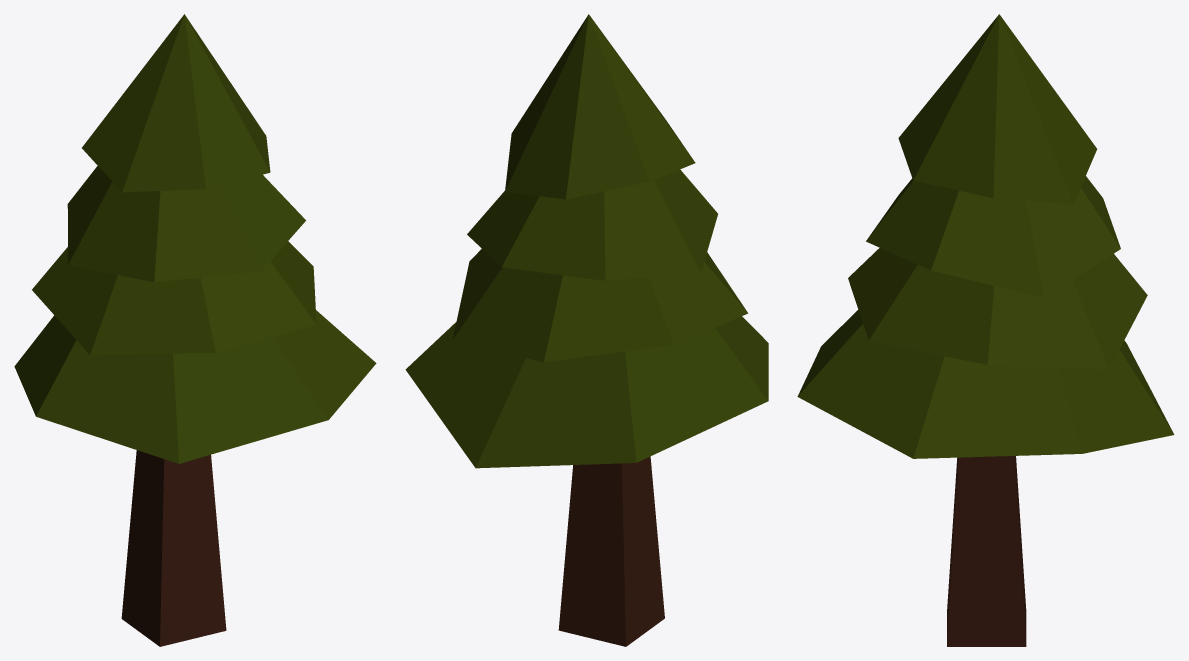
The model's file is tree_03.obj.
3 renders of one model, left to right at view 1: azimuth 30°, elevation 25°; view 2: azimuth 150°, elevation 25°; view 3: azimuth 270°, elevation 25°, orthographic. The views are drawn at different scales.
Parts seen in each view (by area): view 1: tree_03:samor_4024_217tree_03group1 group1, pCube1; view 2: tree_03:samor_4024_217tree_03group1 group1, pCube1; view 3: tree_03:samor_4024_217tree_03group1 group1, pCube1.
Boxes of the visible parts, left/top/right/bottom form: tree_03:samor_4024_217tree_03group1 group1: left=14, top=14, right=376, bottom=463; pCube1: left=121, top=450, right=226, bottom=646; tree_03:samor_4024_217tree_03group1 group1: left=405, top=14, right=768, bottom=468; pCube1: left=558, top=456, right=664, bottom=646; tree_03:samor_4024_217tree_03group1 group1: left=797, top=14, right=1174, bottom=458; pCube1: left=947, top=456, right=1026, bottom=646.
Bounding box in the file's own units: 1.24 × 2.27 × 1.24.
